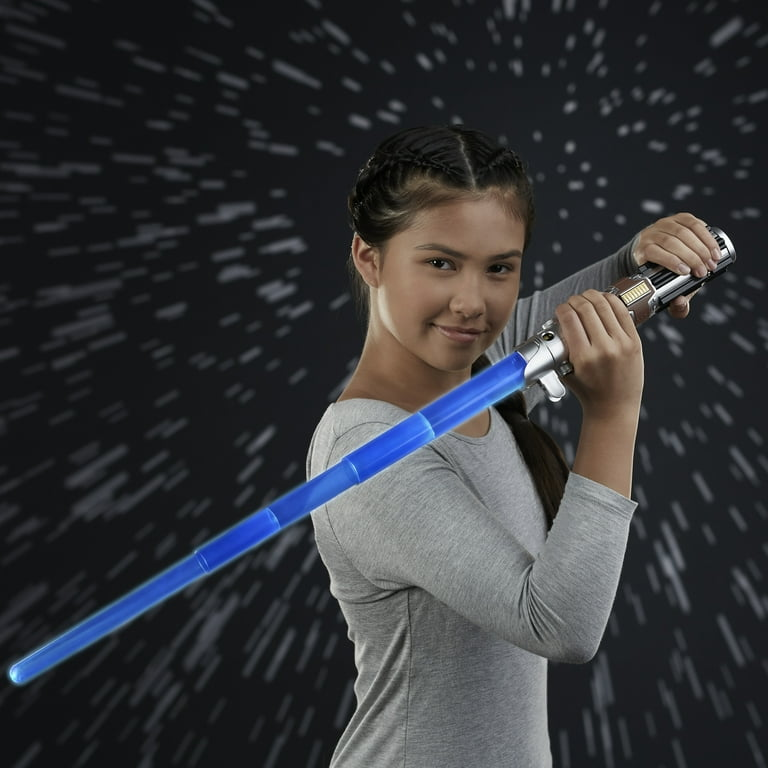lightsaber: (16, 204, 768, 717)
